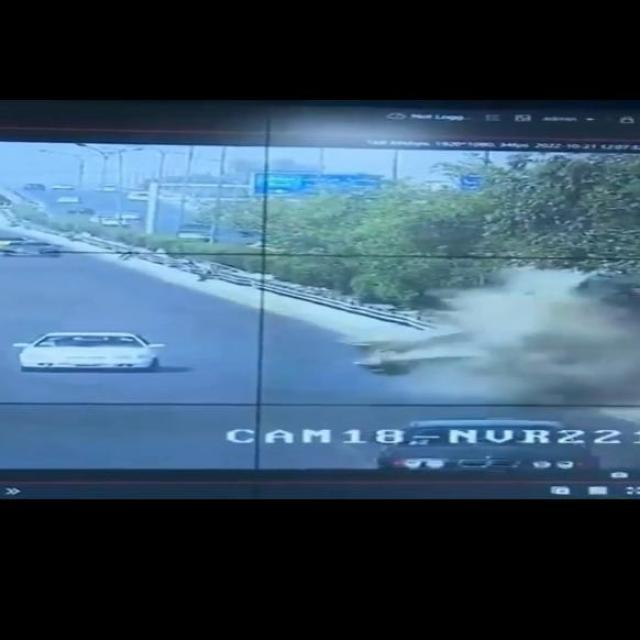accident: (348, 287, 640, 407)
